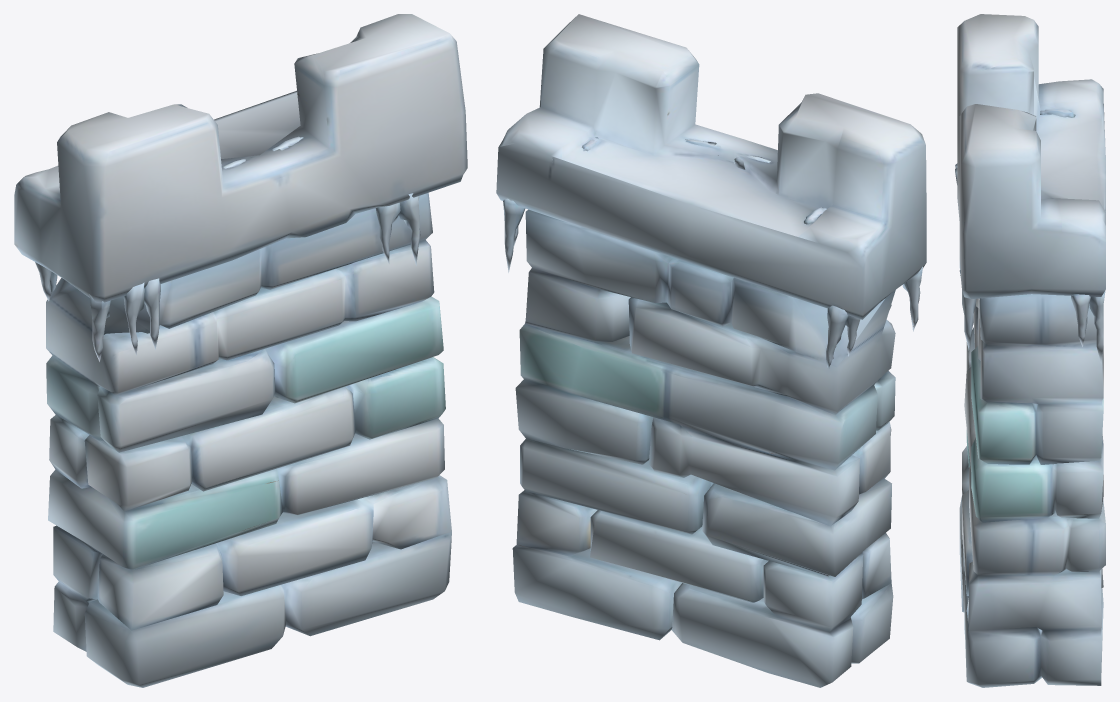
File: snowfort_tripo.glb
3 renders of one model, left to right at view 1: azimuth 30°, elevation 25°; view 2: azimuth 150°, elevation 25°; view 3: azimuth 270°, elevation 25°, orthographic. The views are drawn at different scales.
Parts seen in each view (by area): view 1: tripo_node_381a19af-5127-4301-a930-873f42776e16.002; view 2: tripo_node_381a19af-5127-4301-a930-873f42776e16.002; view 3: tripo_node_381a19af-5127-4301-a930-873f42776e16.002.
Boxes of the visible parts, x1,y1,x2,y2 form: tripo_node_381a19af-5127-4301-a930-873f42776e16.002: (14, 14, 467, 687); tripo_node_381a19af-5127-4301-a930-873f42776e16.002: (496, 14, 926, 687); tripo_node_381a19af-5127-4301-a930-873f42776e16.002: (955, 14, 1105, 687).
Bounding box in the file's own units: 0.3574 × 0.5156 × 0.127.
1 material, 1 textured.
